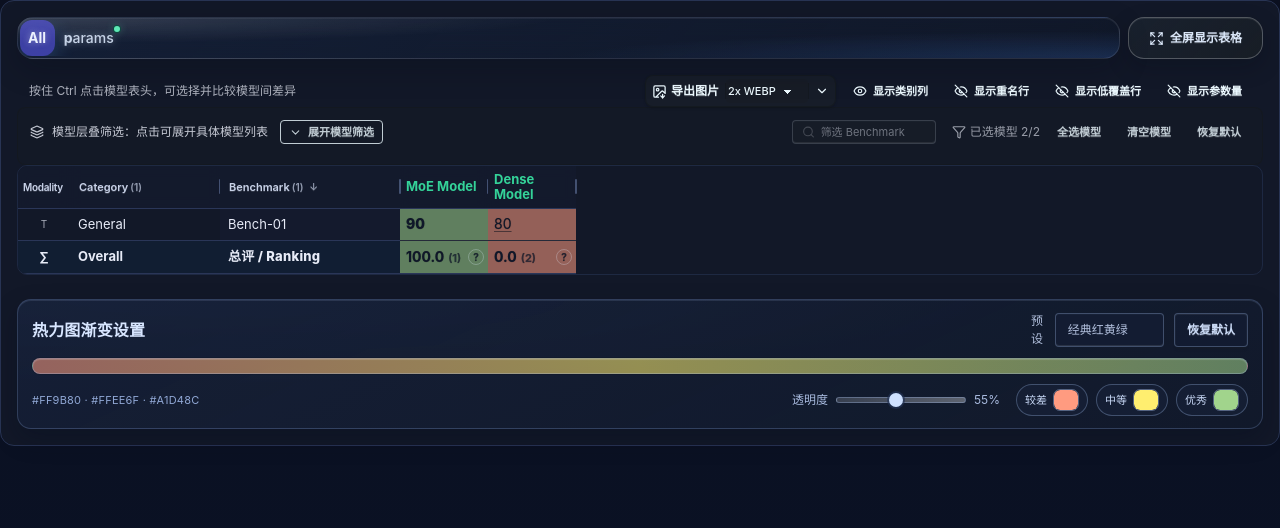
Test case: BenchmarkMatrix 参数量展示 › 默认不显示参数量，开启后出现 Model Info 行且不带表头徽标
Click the button "显示参数量". click: (1204, 91)
box: [1158,79,1251,103]
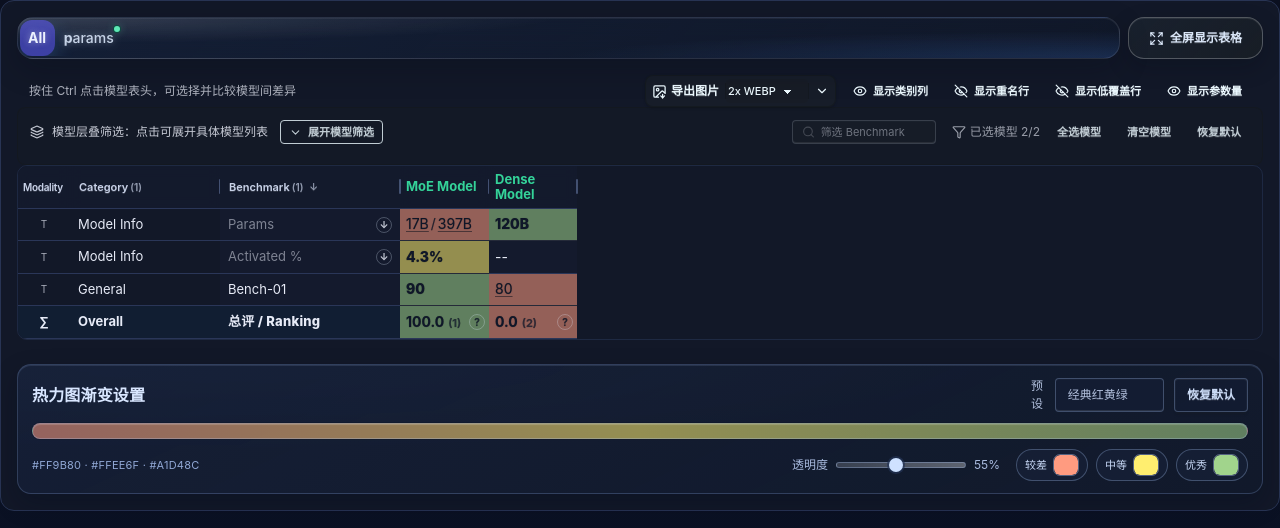
Now the text "Params" is shown, box [228,216,274,232]
Now the text "Activated %" is shown, box [228,248,302,264]
Now the cell "17B / 397B" is shown, box [400,208,489,241]
